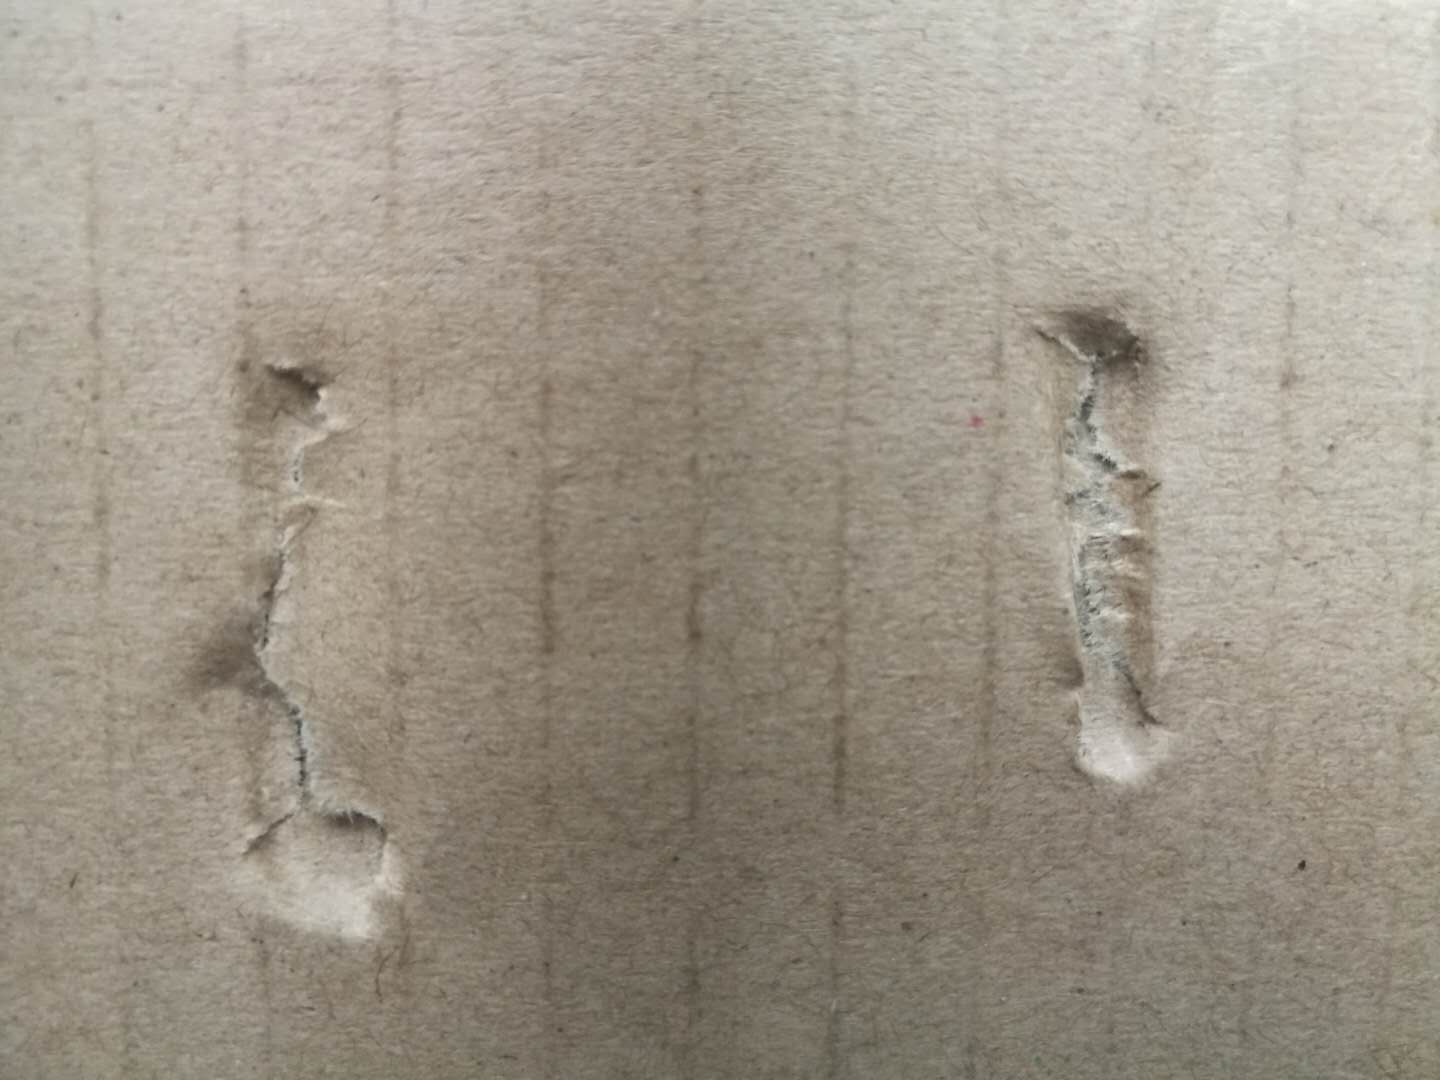defect: (143, 297, 483, 974), (993, 271, 1252, 832)
